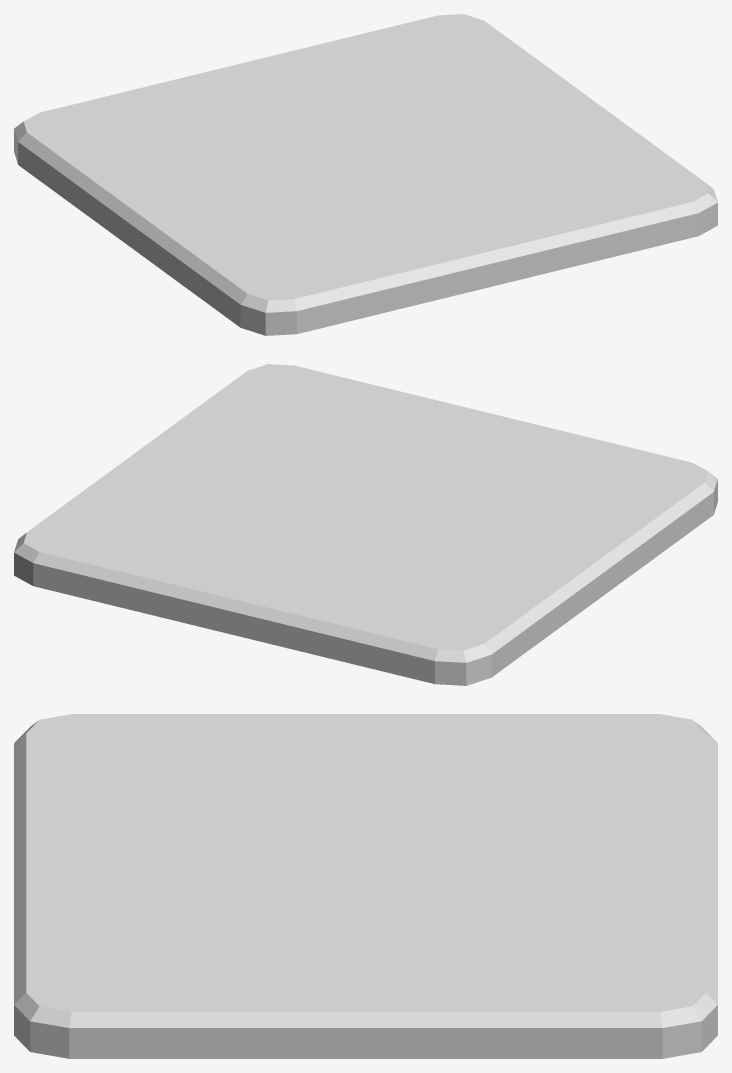
The model's file is trash_lid.gltf.
3 renders of one model, top to bottom at view 1: azimuth 30°, elevation 25°; view 2: azimuth 150°, elevation 25°; view 3: azimuth 270°, elevation 25°, orthographic. The views are drawn at different scales.
Visible parts, largest first — view 1: TrashBin Ac.001; view 2: TrashBin Ac.001; view 3: TrashBin Ac.001.
Boxes of the visible parts, x1,y1,x2,y2 form: TrashBin Ac.001: (14, 14, 717, 335); TrashBin Ac.001: (14, 364, 717, 685); TrashBin Ac.001: (14, 714, 717, 1058).
Bounding box in the file's own units: 0.4128 × 0.0261 × 0.3986.
1 material, 1 textured.
